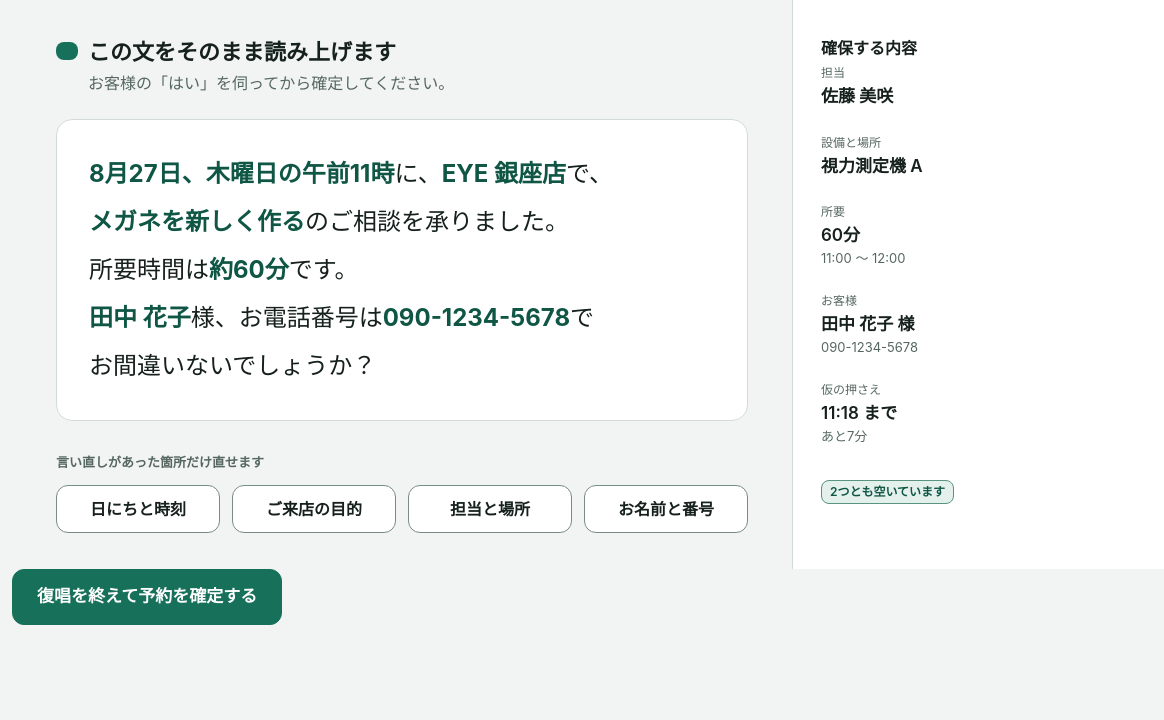
確定 › 「復唱を終えて予約を確定する」を押すと完了画面へ移る
Click the button "復唱を終えて予約を確定する" at (147, 596), box [12, 568, 282, 624]
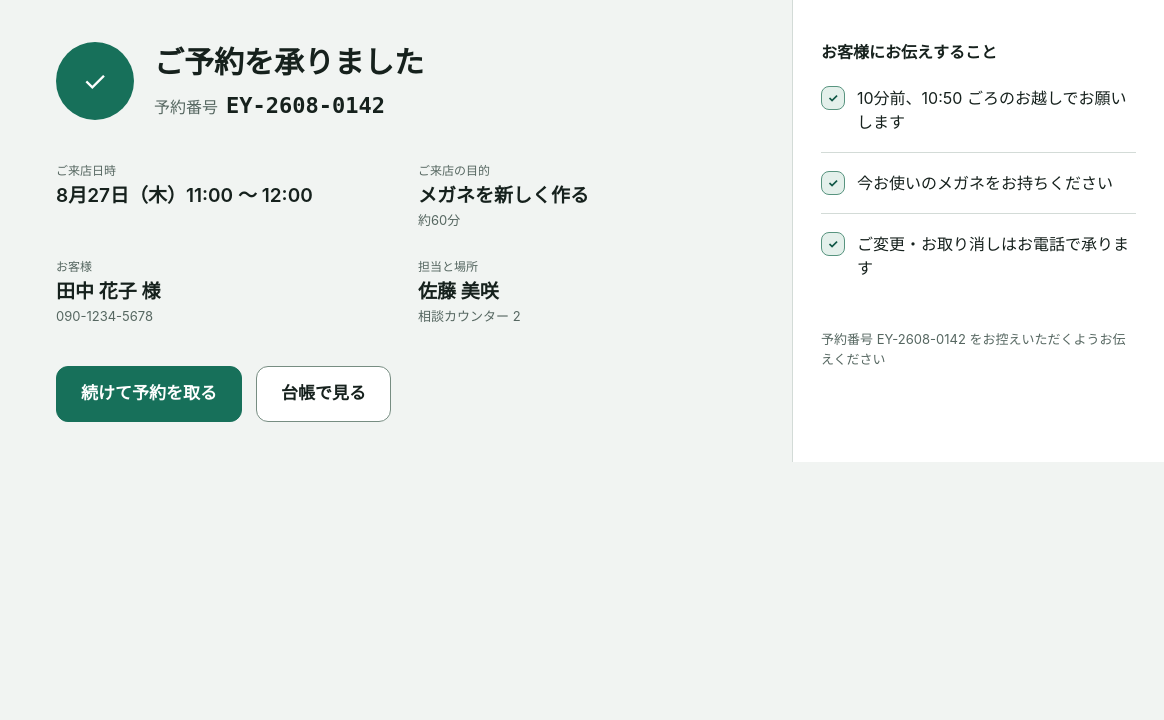
Now the heading "ご予約を承りました" is shown, box [154, 40, 424, 85]
Now the text "EY-2608-0142" is shown, box [226, 93, 385, 118]
